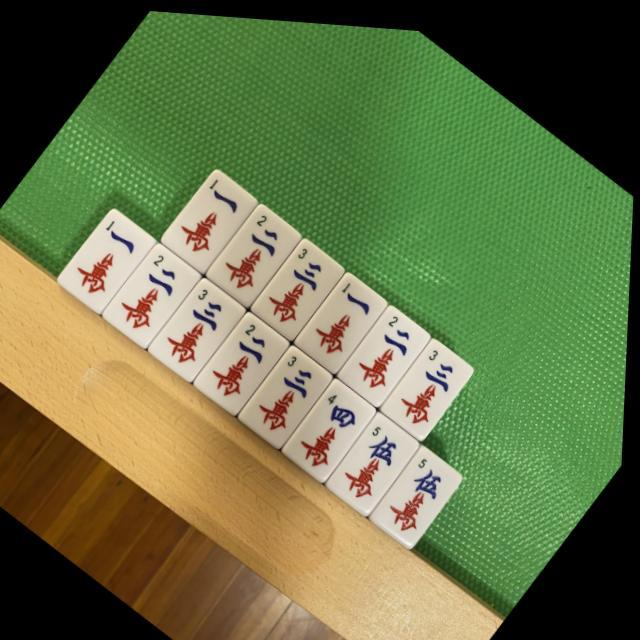sc1: (58, 203, 158, 315), (162, 162, 260, 272), (295, 264, 391, 372)
sc2: (103, 236, 205, 350), (194, 304, 295, 418), (206, 195, 306, 308), (338, 296, 436, 404)
sc3: (148, 270, 250, 384), (238, 336, 339, 449), (380, 327, 479, 438), (251, 230, 349, 340)
sc4: (283, 370, 382, 481)
sc5: (328, 402, 427, 514), (371, 436, 470, 547)
